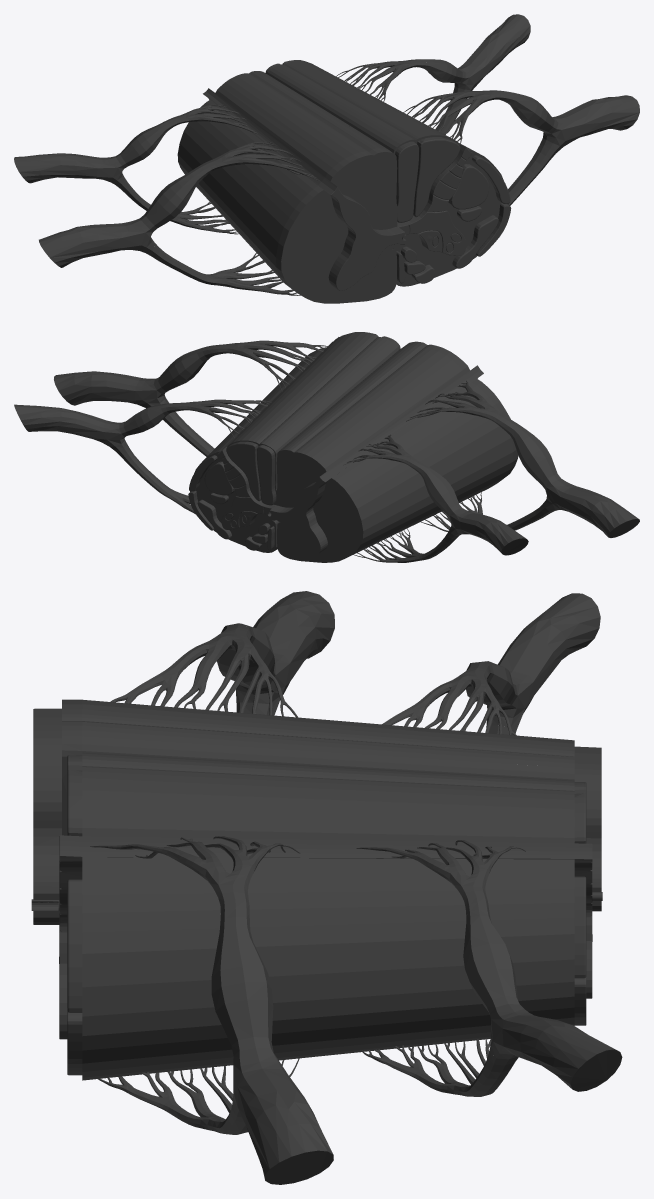
Rendered from sharedassets110.glb.
3 views of the same model, one above another, from view 1: azimuth 30°, elevation 25°; view 2: azimuth 150°, elevation 25°; view 3: azimuth 270°, elevation 25° (orthographic). The views are drawn at different scales.
Parts seen in each view (by area): view 1: 0014_Lateral column_spinal_cord_xs_304383, 0030_Spinal nerves_spinal_cord_xs_304400, 0003_Posterior column_spinal_cord_xs_304384, 0019_White matter_spinal_cord_xs_304382, 0018_Dorsal roots_spinal_cord_xs_304399, 0010_Ventral roots_spinal_cord_xs_304401, 0008_Dorsal root ganglia_spinal_cord_xs_30439, 0004_Posterior horn_spinal_cord_xs_304369, 0006_Fasciculus cuneatus_spinal_cord_xs_30439, 0029_Anterior column_spinal_cord_xs_304381, 0023_Fasciculus gracilis_spinal_cord_xs_30439, 0005_Rexed lamina VII_spinal_cord_xs_304371 (+7 smaller); view 2: 0014_Lateral column_spinal_cord_xs_304383, 0003_Posterior column_spinal_cord_xs_304384, 0030_Spinal nerves_spinal_cord_xs_304400, 0019_White matter_spinal_cord_xs_304382, 0018_Dorsal roots_spinal_cord_xs_304399, 0008_Dorsal root ganglia_spinal_cord_xs_30439, 0010_Ventral roots_spinal_cord_xs_304401, 0004_Posterior horn_spinal_cord_xs_304369, 0001_Posterior median sulcus_spinal_cord_xs_3, 0006_Fasciculus cuneatus_spinal_cord_xs_30439, 0023_Fasciculus gracilis_spinal_cord_xs_30439, 0029_Anterior column_spinal_cord_xs_304381 (+6 smaller); view 3: 0019_White matter_spinal_cord_xs_304382, 0030_Spinal nerves_spinal_cord_xs_304400, 0003_Posterior column_spinal_cord_xs_304384, 0018_Dorsal roots_spinal_cord_xs_304399, 0008_Dorsal root ganglia_spinal_cord_xs_30439, 0001_Posterior median sulcus_spinal_cord_xs_3, 0017_Rexed lamina I_spinal_cord_xs_304379, 0010_Ventral roots_spinal_cord_xs_304401, 0004_Posterior horn_spinal_cord_xs_304369, 0012_Dorsal spinocerebellar tract_spinal_cord, 0031_Intermediate column_spinal_cord_xs_30436, 0006_Fasciculus cuneatus_spinal_cord_xs_30439 (+2 smaller).
Part boxes in pixels (box(x1,y1,x2,y2)): 0014_Lateral column_spinal_cord_xs_304383: box(177, 99, 348, 303); 0030_Spinal nerves_spinal_cord_xs_304400: box(14, 14, 639, 267); 0003_Posterior column_spinal_cord_xs_304384: box(215, 71, 397, 229); 0019_White matter_spinal_cord_xs_304382: box(270, 61, 508, 286); 0018_Dorsal roots_spinal_cord_xs_304399: box(164, 59, 511, 181); 0010_Ventral roots_spinal_cord_xs_304401: box(116, 91, 555, 295); 0008_Dorsal root ganglia_spinal_cord_xs_30439: box(120, 59, 554, 228); 0004_Posterior horn_spinal_cord_xs_304369: box(203, 88, 371, 237); 0006_Fasciculus cuneatus_spinal_cord_xs_30439: box(282, 60, 460, 217); 0029_Anterior column_spinal_cord_xs_304381: box(325, 244, 397, 303); 0023_Fasciculus gracilis_spinal_cord_xs_30439: box(265, 63, 418, 222); 0005_Rexed lamina VII_spinal_cord_xs_304371: box(405, 210, 466, 255); 0014_Lateral column_spinal_cord_xs_304383: box(313, 379, 518, 562); 0003_Posterior column_spinal_cord_xs_304384: box(276, 341, 469, 507); 0030_Spinal nerves_spinal_cord_xs_304400: box(14, 371, 639, 555); 0019_White matter_spinal_cord_xs_304382: box(190, 333, 394, 552); 0018_Dorsal roots_spinal_cord_xs_304399: box(170, 340, 515, 471); 0008_Dorsal root ganglia_spinal_cord_xs_30439: box(123, 346, 557, 513); 0010_Ventral roots_spinal_cord_xs_304401: box(116, 403, 554, 562); 0004_Posterior horn_spinal_cord_xs_304369: box(294, 365, 483, 514); 0001_Posterior median sulcus_spinal_cord_xs_3: box(273, 342, 412, 490); 0006_Fasciculus cuneatus_spinal_cord_xs_30439: box(226, 332, 378, 501); 0023_Fasciculus gracilis_spinal_cord_xs_30439: box(257, 336, 400, 505); 0029_Anterior column_spinal_cord_xs_304381: box(276, 519, 330, 562); 0019_White matter_spinal_cord_xs_304382: box(82, 752, 574, 1080); 0030_Spinal nerves_spinal_cord_xs_304400: box(231, 591, 622, 1184); 0003_Posterior column_spinal_cord_xs_304384: box(62, 699, 574, 768); 0018_Dorsal roots_spinal_cord_xs_304399: box(90, 624, 525, 922); 0008_Dorsal root ganglia_spinal_cord_xs_30439: box(211, 623, 517, 1045); 0001_Posterior median sulcus_spinal_cord_xs_3: box(62, 736, 574, 835); 0017_Rexed lamina I_spinal_cord_xs_304379: box(59, 835, 592, 862); 0010_Ventral roots_spinal_cord_xs_304401: box(98, 725, 518, 1134); 0004_Posterior horn_spinal_cord_xs_304369: box(33, 708, 601, 844); 0012_Dorsal spinocerebellar tract_spinal_cord: box(67, 876, 586, 1012); 0031_Intermediate column_spinal_cord_xs_30436: box(33, 836, 601, 917); 0006_Fasciculus cuneatus_spinal_cord_xs_30439: box(67, 770, 586, 843).
Size of the model in its own units: 0.4703 by 0.1103 by 0.207.
Materials: 1 (1 with a texture image).
